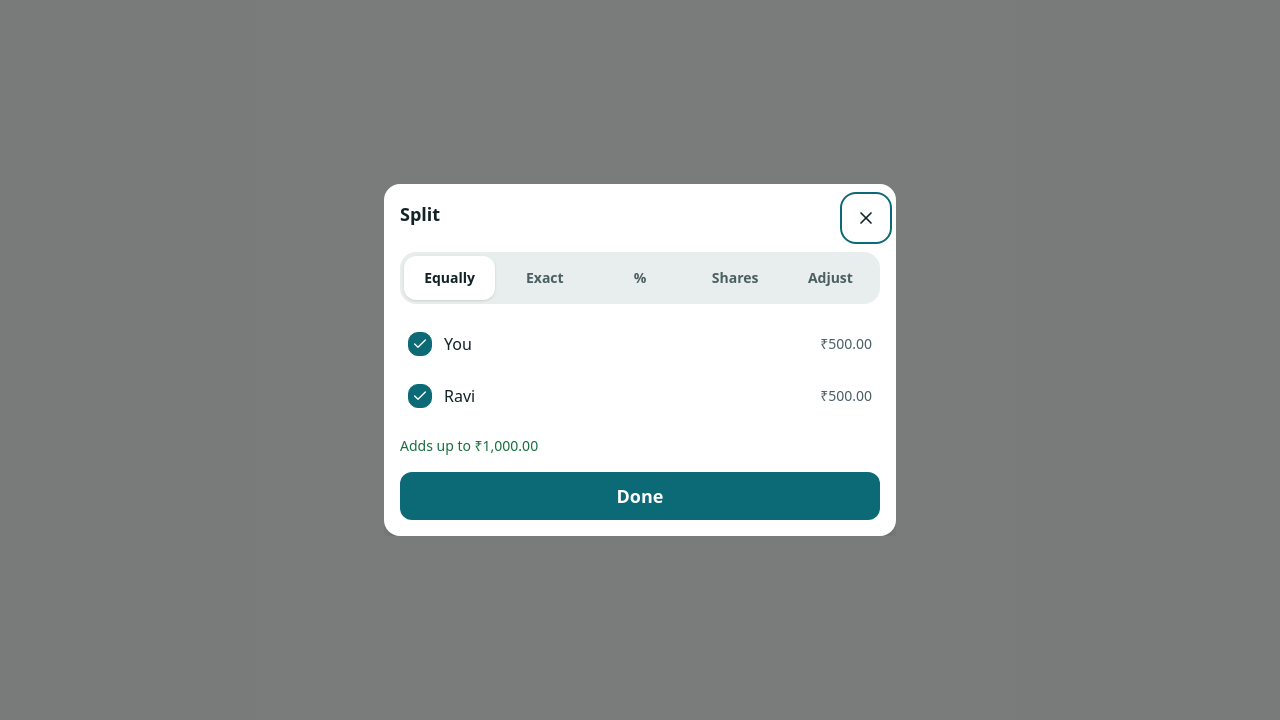
Scenario: SplitSheet › shows each person’s equal share and toggles people
This screenshot has width=1280, height=720.
Expected: the text "₹500.00" is shown 2 times, [820,334,872,354]; [820,386,872,406]
Click the checkbox labelled "Ravi ₹500.00".
click(460, 396)  # box [400,372,880,420]
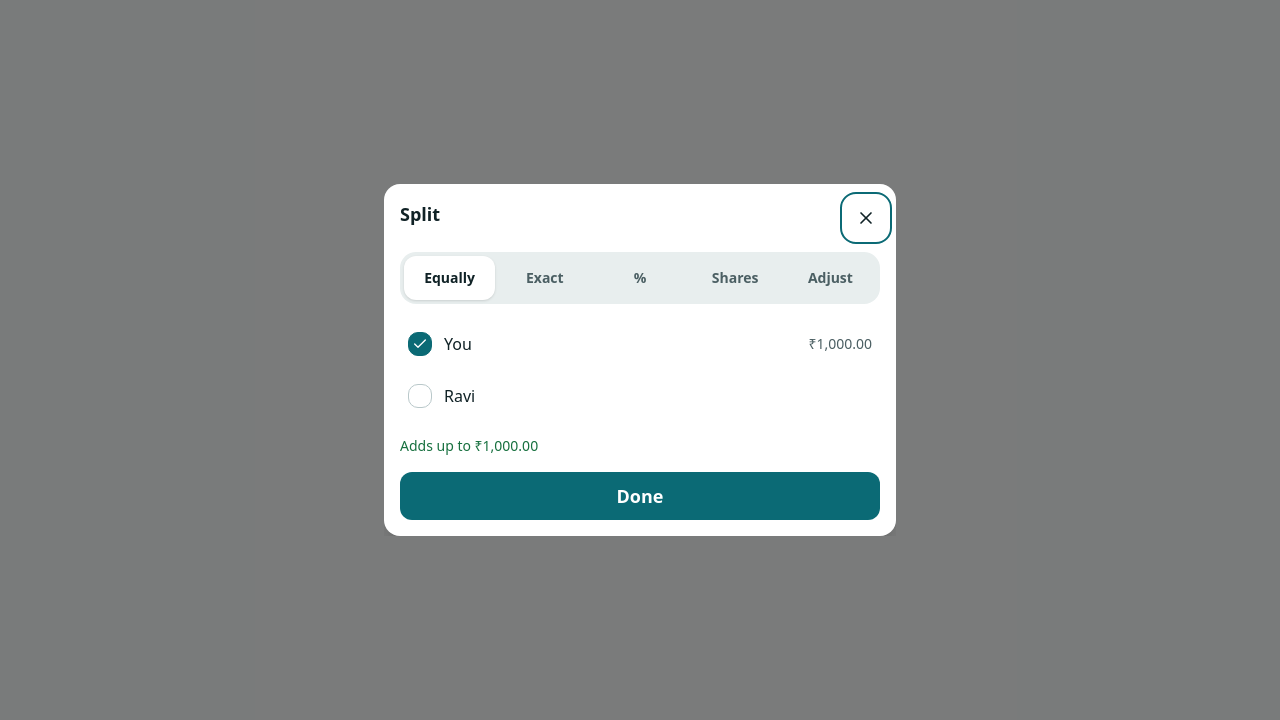
Expected: the text "Adds up to ₹1,000.00" is shown, [400,436,538,455]
Expected: the text "₹1,000.00" is shown, [808,334,872,354]
